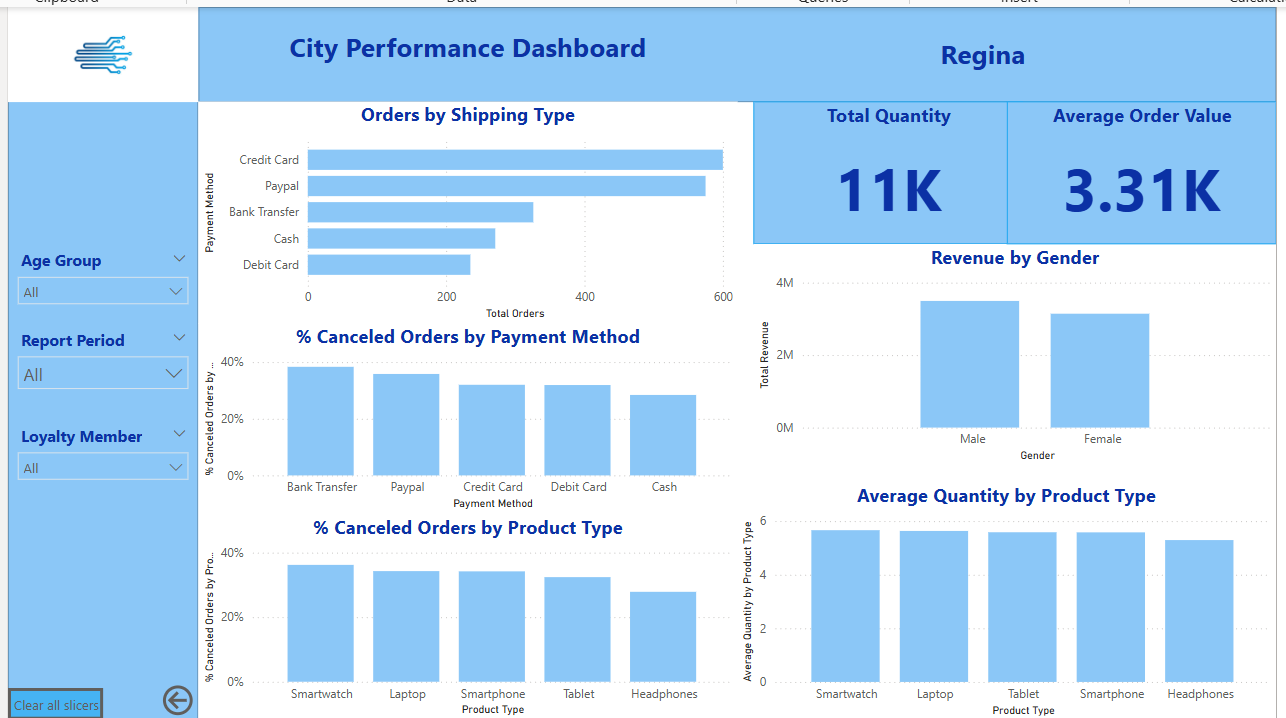

This screenshot's page, from the dashboard's own definition file:
{"tool":"powerbi","page":{"name":"Overview By City","canvas":[1280,720],"ordinal":3},"visuals":[{"type":"shape","box":[0,0,192,720],"z":0},{"type":"image","box":[0,0,192,96],"z":1000},{"type":"shape","box":[192,0,1088,96],"z":2000},{"type":"actionButton","box":[152,680,40,40],"z":3000},{"type":"textbox","box":[192,16,544,80],"z":4000},{"type":"slicer","fields":{"Values":["Customers.Age Group"]},"box":[0,240,192,96],"z":5000},{"type":"slicer","fields":{"Values":["Orders.MonthYear"]},"box":[0,320,192,96],"z":6000},{"type":"card","fields":{"Values":["Calculation.Current City"]},"box":[736,0,496,96],"z":7000},{"type":"clusteredColumnChart","title":"% Canceled Orders by Payment Method","fields":{"Y":["Calculation.% Canceled Orders by Product Type"],"Category":["Payment Method.Payment Method"]},"box":[192,320,544,192],"z":8000},{"type":"clusteredColumnChart","title":"% Canceled Orders by Product Type","fields":{"Y":["Calculation.% Canceled Orders by Product Type"],"Category":["Products.Product Type"]},"box":[192,512,544,208],"z":9000},{"type":"barChart","title":"Orders by Shipping Type","fields":{"Y":["Calculation.Total Orders"],"Category":["Payment Method.Payment Method"]},"box":[192,96,544,224],"z":10000},{"type":"slicer","fields":{"Values":["Customers.Loyalty Member"]},"box":[0,416,192,96],"z":11000},{"type":"clusteredColumnChart","title":"Average Quantity by Product Type","fields":{"Y":["Calculation.Average Quantity by Product Type"],"Category":["Products.Product Type"]},"box":[736,480,544,240],"z":12000},{"type":"card","title":"Total Quantity","fields":{"Values":["Orders.Quantity"]},"box":[752,96,272,144],"z":13000},{"type":"clusteredColumnChart","title":"Revenue by Gender","fields":{"Category":["Customers.Gender"],"Y":["Calculation.Total Revenue"]},"box":[752,240,528,224],"z":14000},{"type":"card","title":"Average Order Value","fields":{"Values":["Calculation.Average Order Value"]},"box":[1008,96,272,144],"z":15000},{"type":"actionButton","box":[0,688,96,32],"z":16000}]}

Visuals, with their boxes on the page's 1280x720 design canvas (x1, y1, x2, y2). These are canvas units, not pixel positions in the 1286x718 screenshot, which may show the page scaled, cropped or inside an application window:
shape: (left=0, top=0, right=192, bottom=720)
image: (left=0, top=0, right=192, bottom=96)
shape: (left=192, top=0, right=1280, bottom=96)
actionButton: (left=152, top=680, right=192, bottom=720)
textbox: (left=192, top=16, right=736, bottom=96)
slicer - Customers.Age Group: (left=0, top=240, right=192, bottom=336)
slicer - Orders.MonthYear: (left=0, top=320, right=192, bottom=416)
card - Calculation.Current City: (left=736, top=0, right=1232, bottom=96)
"% Canceled Orders by Payment Method" clusteredColumnChart: (left=192, top=320, right=736, bottom=512)
"% Canceled Orders by Product Type" clusteredColumnChart: (left=192, top=512, right=736, bottom=720)
"Orders by Shipping Type" barChart: (left=192, top=96, right=736, bottom=320)
slicer - Customers.Loyalty Member: (left=0, top=416, right=192, bottom=512)
"Average Quantity by Product Type" clusteredColumnChart: (left=736, top=480, right=1280, bottom=720)
"Total Quantity" card: (left=752, top=96, right=1024, bottom=240)
"Revenue by Gender" clusteredColumnChart: (left=752, top=240, right=1280, bottom=464)
"Average Order Value" card: (left=1008, top=96, right=1280, bottom=240)
actionButton: (left=0, top=688, right=96, bottom=720)
